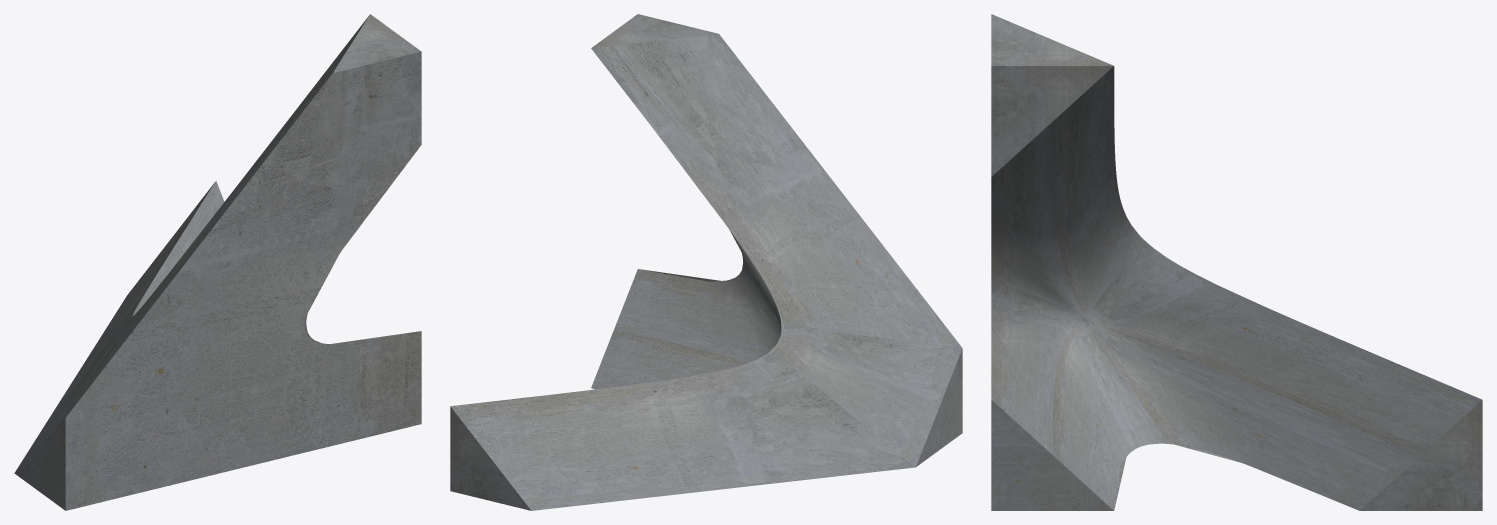
Rendered from module_L4.fbx.
3 renders of one model, left to right at view 1: azimuth 30°, elevation 25°; view 2: azimuth 150°, elevation 25°; view 3: azimuth 270°, elevation 25°, orthographic. The views are drawn at different scales.
Visible parts, largest first — view 1: modules; view 2: modules; view 3: modules.
Boxes of the visible parts, left/top/right/bottom form: modules: left=14, top=14, right=421, bottom=510; modules: left=450, top=14, right=962, bottom=510; modules: left=991, top=14, right=1482, bottom=510.
Bounding box in the file's own units: 1000 × 1000 × 1000.
Materials: 1 (1 with a texture image).
